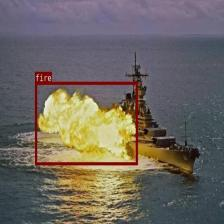fire: (35, 82, 138, 164)
